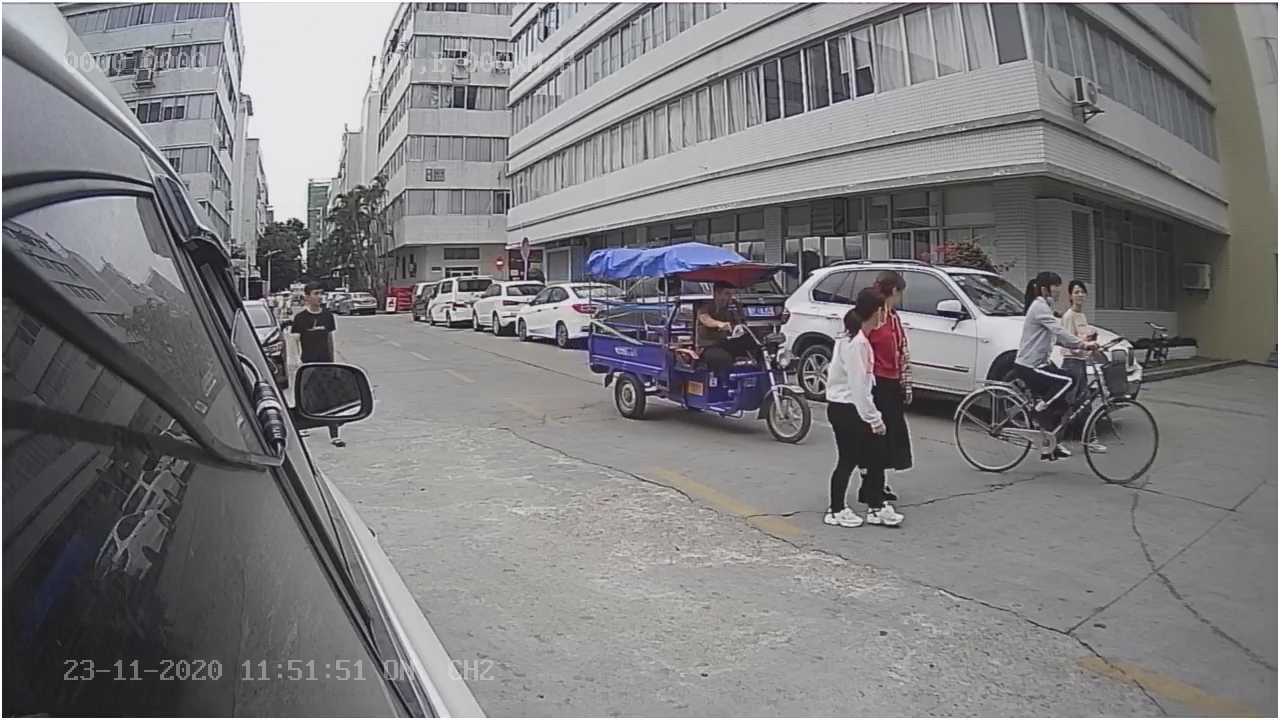person: (815, 280, 908, 524), (1025, 267, 1106, 353)
